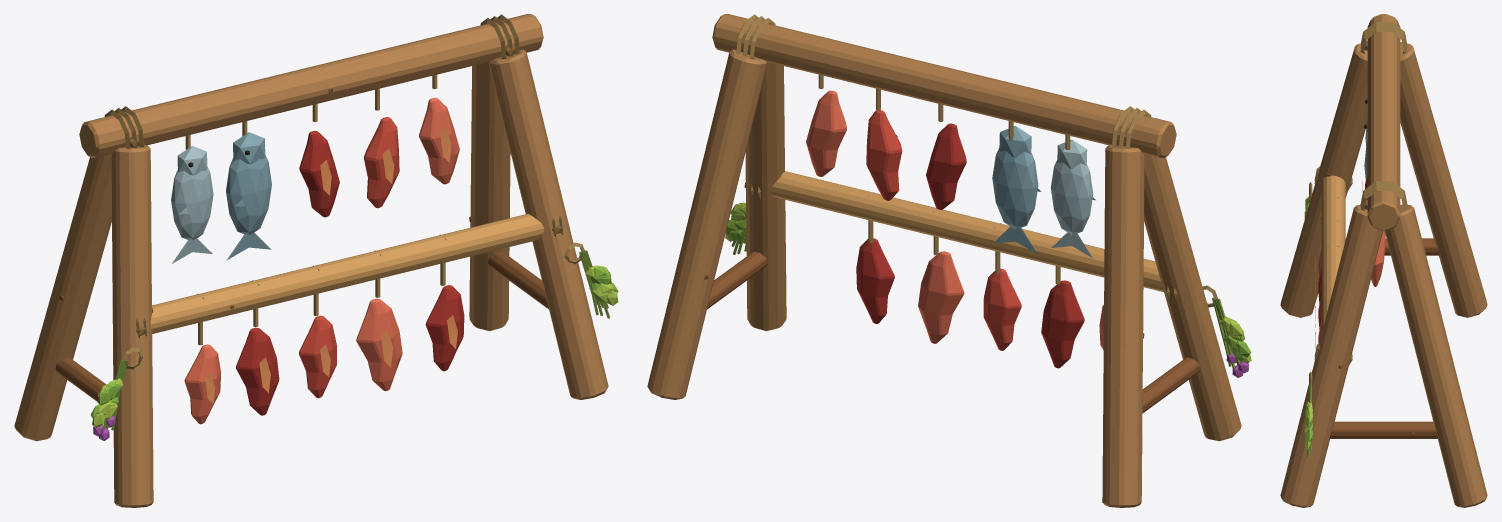
File: smokehouse_drying_rack.glb
3 views of the same model, side by side, from view 1: azimuth 30°, elevation 25°; view 2: azimuth 150°, elevation 25°; view 3: azimuth 270°, elevation 25° (orthographic). The views are drawn at different scales.
Visible parts, largest first — view 1: Top_Ridge_Beam, Leg_L_Front, Leg_R_Front, Lower_Hanging_Rail, Leg_L_Back, Leg_R_Back, Top_Fish_2_Body, Lower_Meat_4, Top_Fish_1_Body, Lower_Meat_2, Top_Meat_4, Top_Meat_5 (+8 smaller); view 2: Top_Ridge_Beam, Leg_L_Back, Leg_R_Back, Leg_L_Front, Lower_Hanging_Rail, Leg_R_Front, Top_Fish_2_Body, Lower_Meat_4, Lower_Meat_2, Top_Fish_1_Body, Top_Meat_4, Top_Meat_5 (+6 smaller); view 3: Leg_R_Back, Leg_R_Front, Leg_L_Back, Leg_L_Front, Top_Ridge_Beam, Lower_Hanging_Rail, Right_Cross_Brace, Top_Meat_5, Left_Top_Lashing_Wrap_3, Left_Cross_Brace, Right_Top_Lashing_Wrap_3.
Part boxes in pixels (left/top/right/bottom): Top_Ridge_Beam: left=79, top=14, right=543, bottom=157; Leg_L_Front: left=111, top=144, right=153, bottom=507; Leg_R_Front: left=488, top=49, right=608, bottom=399; Lower_Hanging_Rail: left=150, top=214, right=544, bottom=333; Leg_L_Back: left=14, top=154, right=111, bottom=441; Leg_R_Back: left=469, top=62, right=510, bottom=331; Top_Fish_2_Body: left=226, top=155, right=271, bottom=234; Lower_Meat_4: left=356, top=298, right=402, bottom=391; Top_Fish_1_Body: left=171, top=167, right=213, bottom=240; Lower_Meat_2: left=236, top=327, right=279, bottom=415; Top_Meat_4: left=364, top=117, right=399, bottom=208; Top_Meat_5: left=419, top=98, right=459, bottom=184; Top_Ridge_Beam: left=712, top=14, right=1176, bottom=157; Leg_L_Back: left=1102, top=144, right=1144, bottom=507; Leg_R_Back: left=647, top=49, right=767, bottom=399; Leg_L_Front: left=1144, top=154, right=1241, bottom=441; Lower_Hanging_Rail: left=770, top=171, right=1163, bottom=291; Leg_R_Front: left=745, top=62, right=786, bottom=331; Top_Fish_2_Body: left=992, top=148, right=1038, bottom=229; Lower_Meat_4: left=918, top=251, right=964, bottom=343; Lower_Meat_2: left=1041, top=280, right=1084, bottom=368; Top_Fish_1_Body: left=1050, top=160, right=1093, bottom=235; Top_Meat_4: left=866, top=110, right=902, bottom=200; Top_Meat_5: left=806, top=90, right=846, bottom=176; Leg_R_Back: left=1384, top=204, right=1487, bottom=507; Leg_R_Front: left=1280, top=205, right=1383, bottom=507; Leg_L_Back: left=1400, top=42, right=1487, bottom=317; Leg_L_Front: left=1280, top=43, right=1367, bottom=317; Top_Ridge_Beam: left=1367, top=14, right=1400, bottom=230; Lower_Hanging_Rail: left=1321, top=175, right=1345, bottom=332; Right_Cross_Brace: left=1330, top=421, right=1437, bottom=438; Top_Meat_5: left=1371, top=231, right=1385, bottom=286; Left_Top_Lashing_Wrap_3: left=1360, top=28, right=1407, bottom=53; Left_Cross_Brace: left=1345, top=238, right=1439, bottom=255; Right_Top_Lashing_Wrap_3: left=1360, top=187, right=1407, bottom=210.
Bounding box in the file's own units: 7.35 × 4.68 × 2.88.
